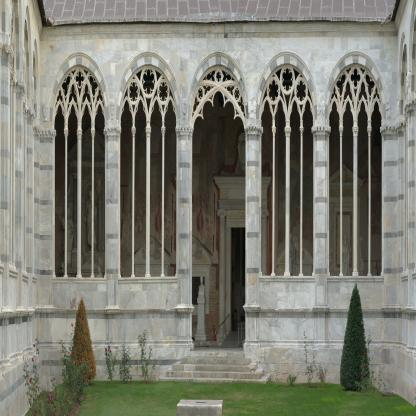Building Outline: (0, 0, 416, 416)
Dont: (21, 295, 97, 416), (339, 281, 388, 395), (303, 326, 328, 388), (137, 326, 156, 384), (104, 332, 119, 385), (118, 338, 133, 383), (286, 373, 298, 383)
Door: (189, 64, 247, 352)
Facade: (0, 0, 415, 383)
Ground Floor: (0, 0, 416, 394)
Molding: (32, 0, 407, 36)
Roof: (42, 0, 396, 25)
Window: (118, 64, 178, 277), (327, 63, 384, 277), (258, 63, 315, 276), (52, 65, 106, 278)
